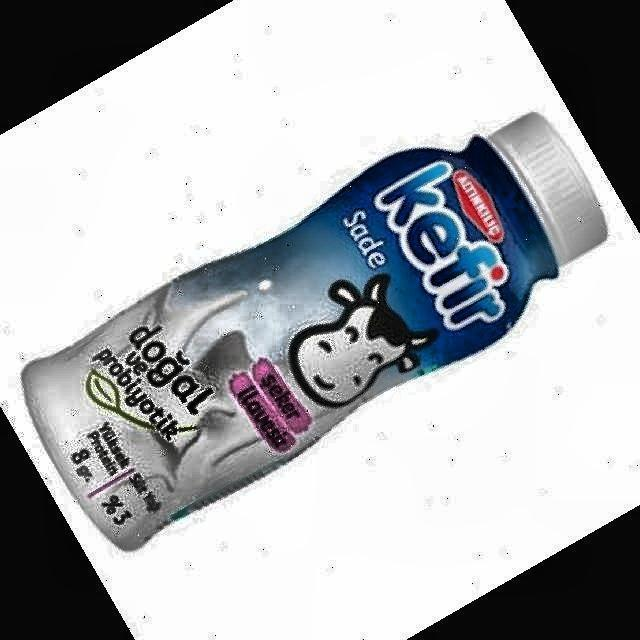plastic: (24, 115, 605, 549)
